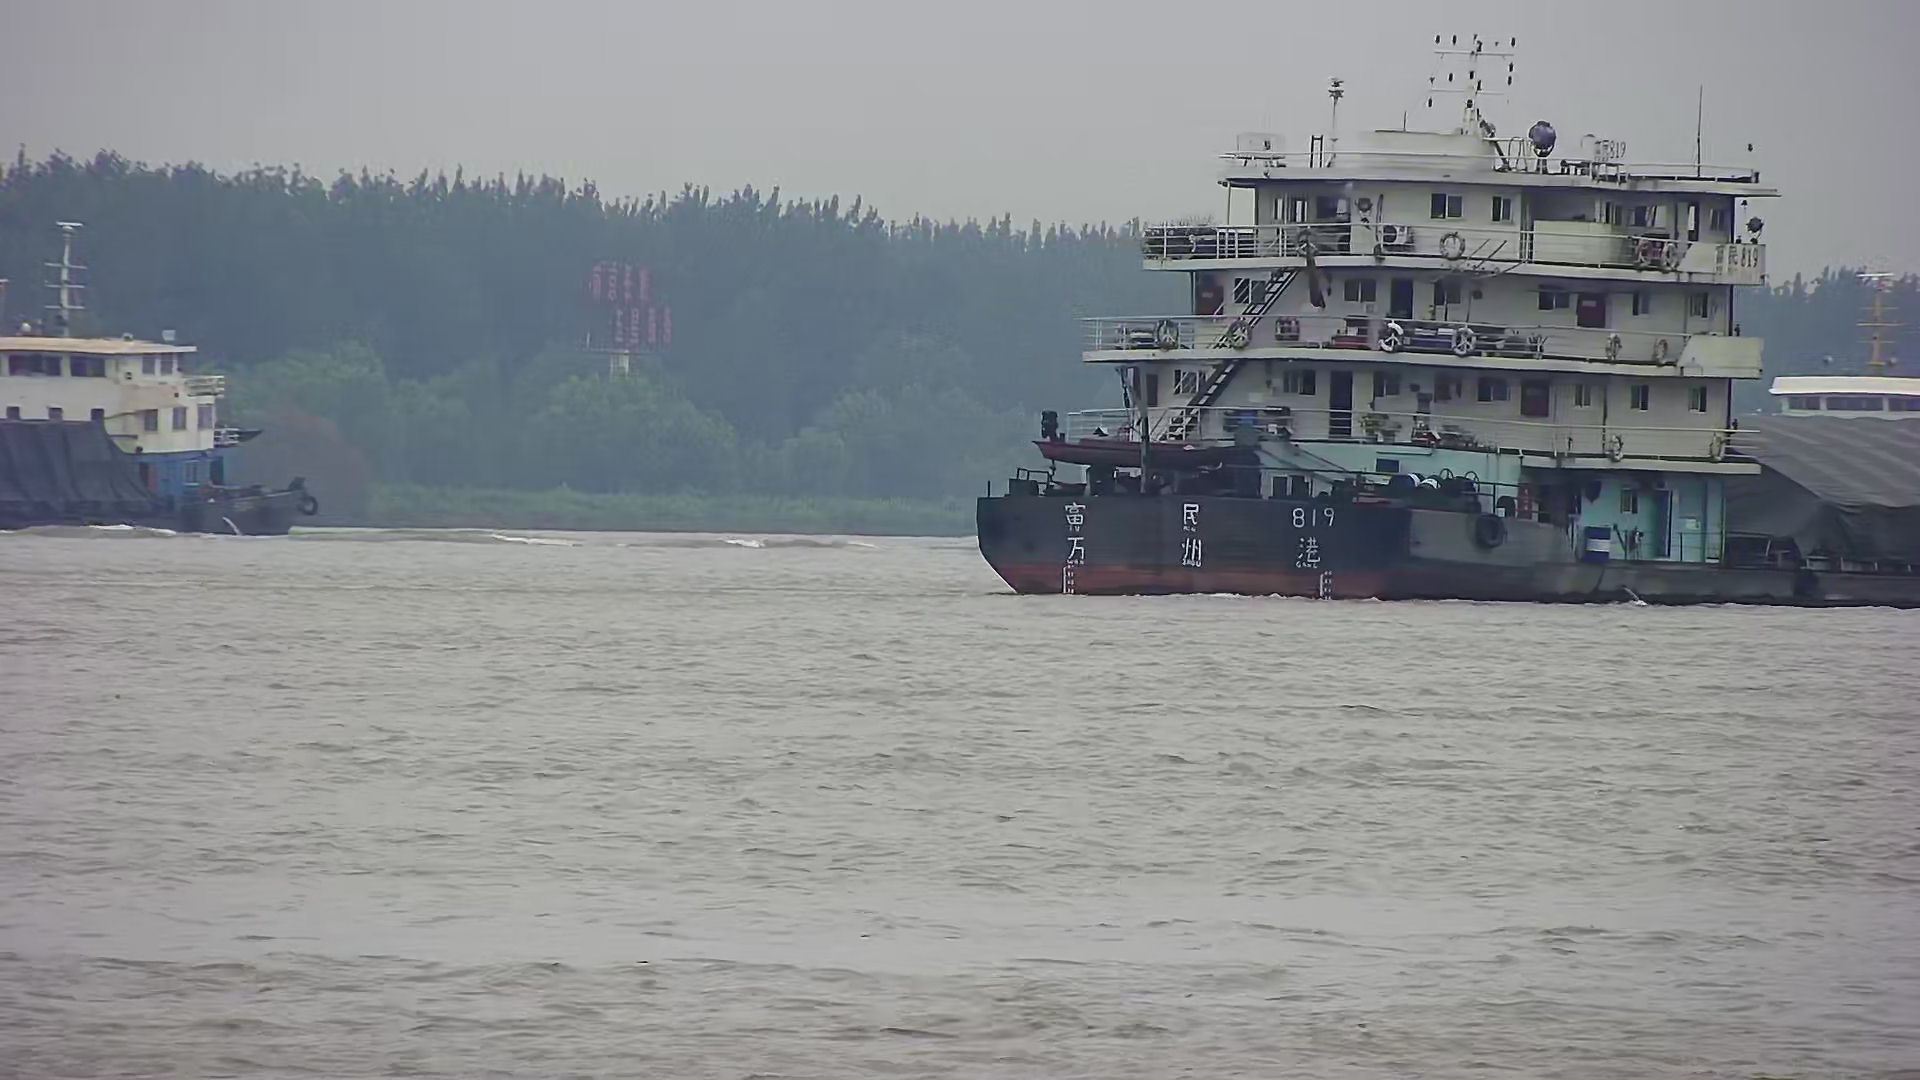ship: (973, 32, 1920, 613), (1, 218, 324, 545)
